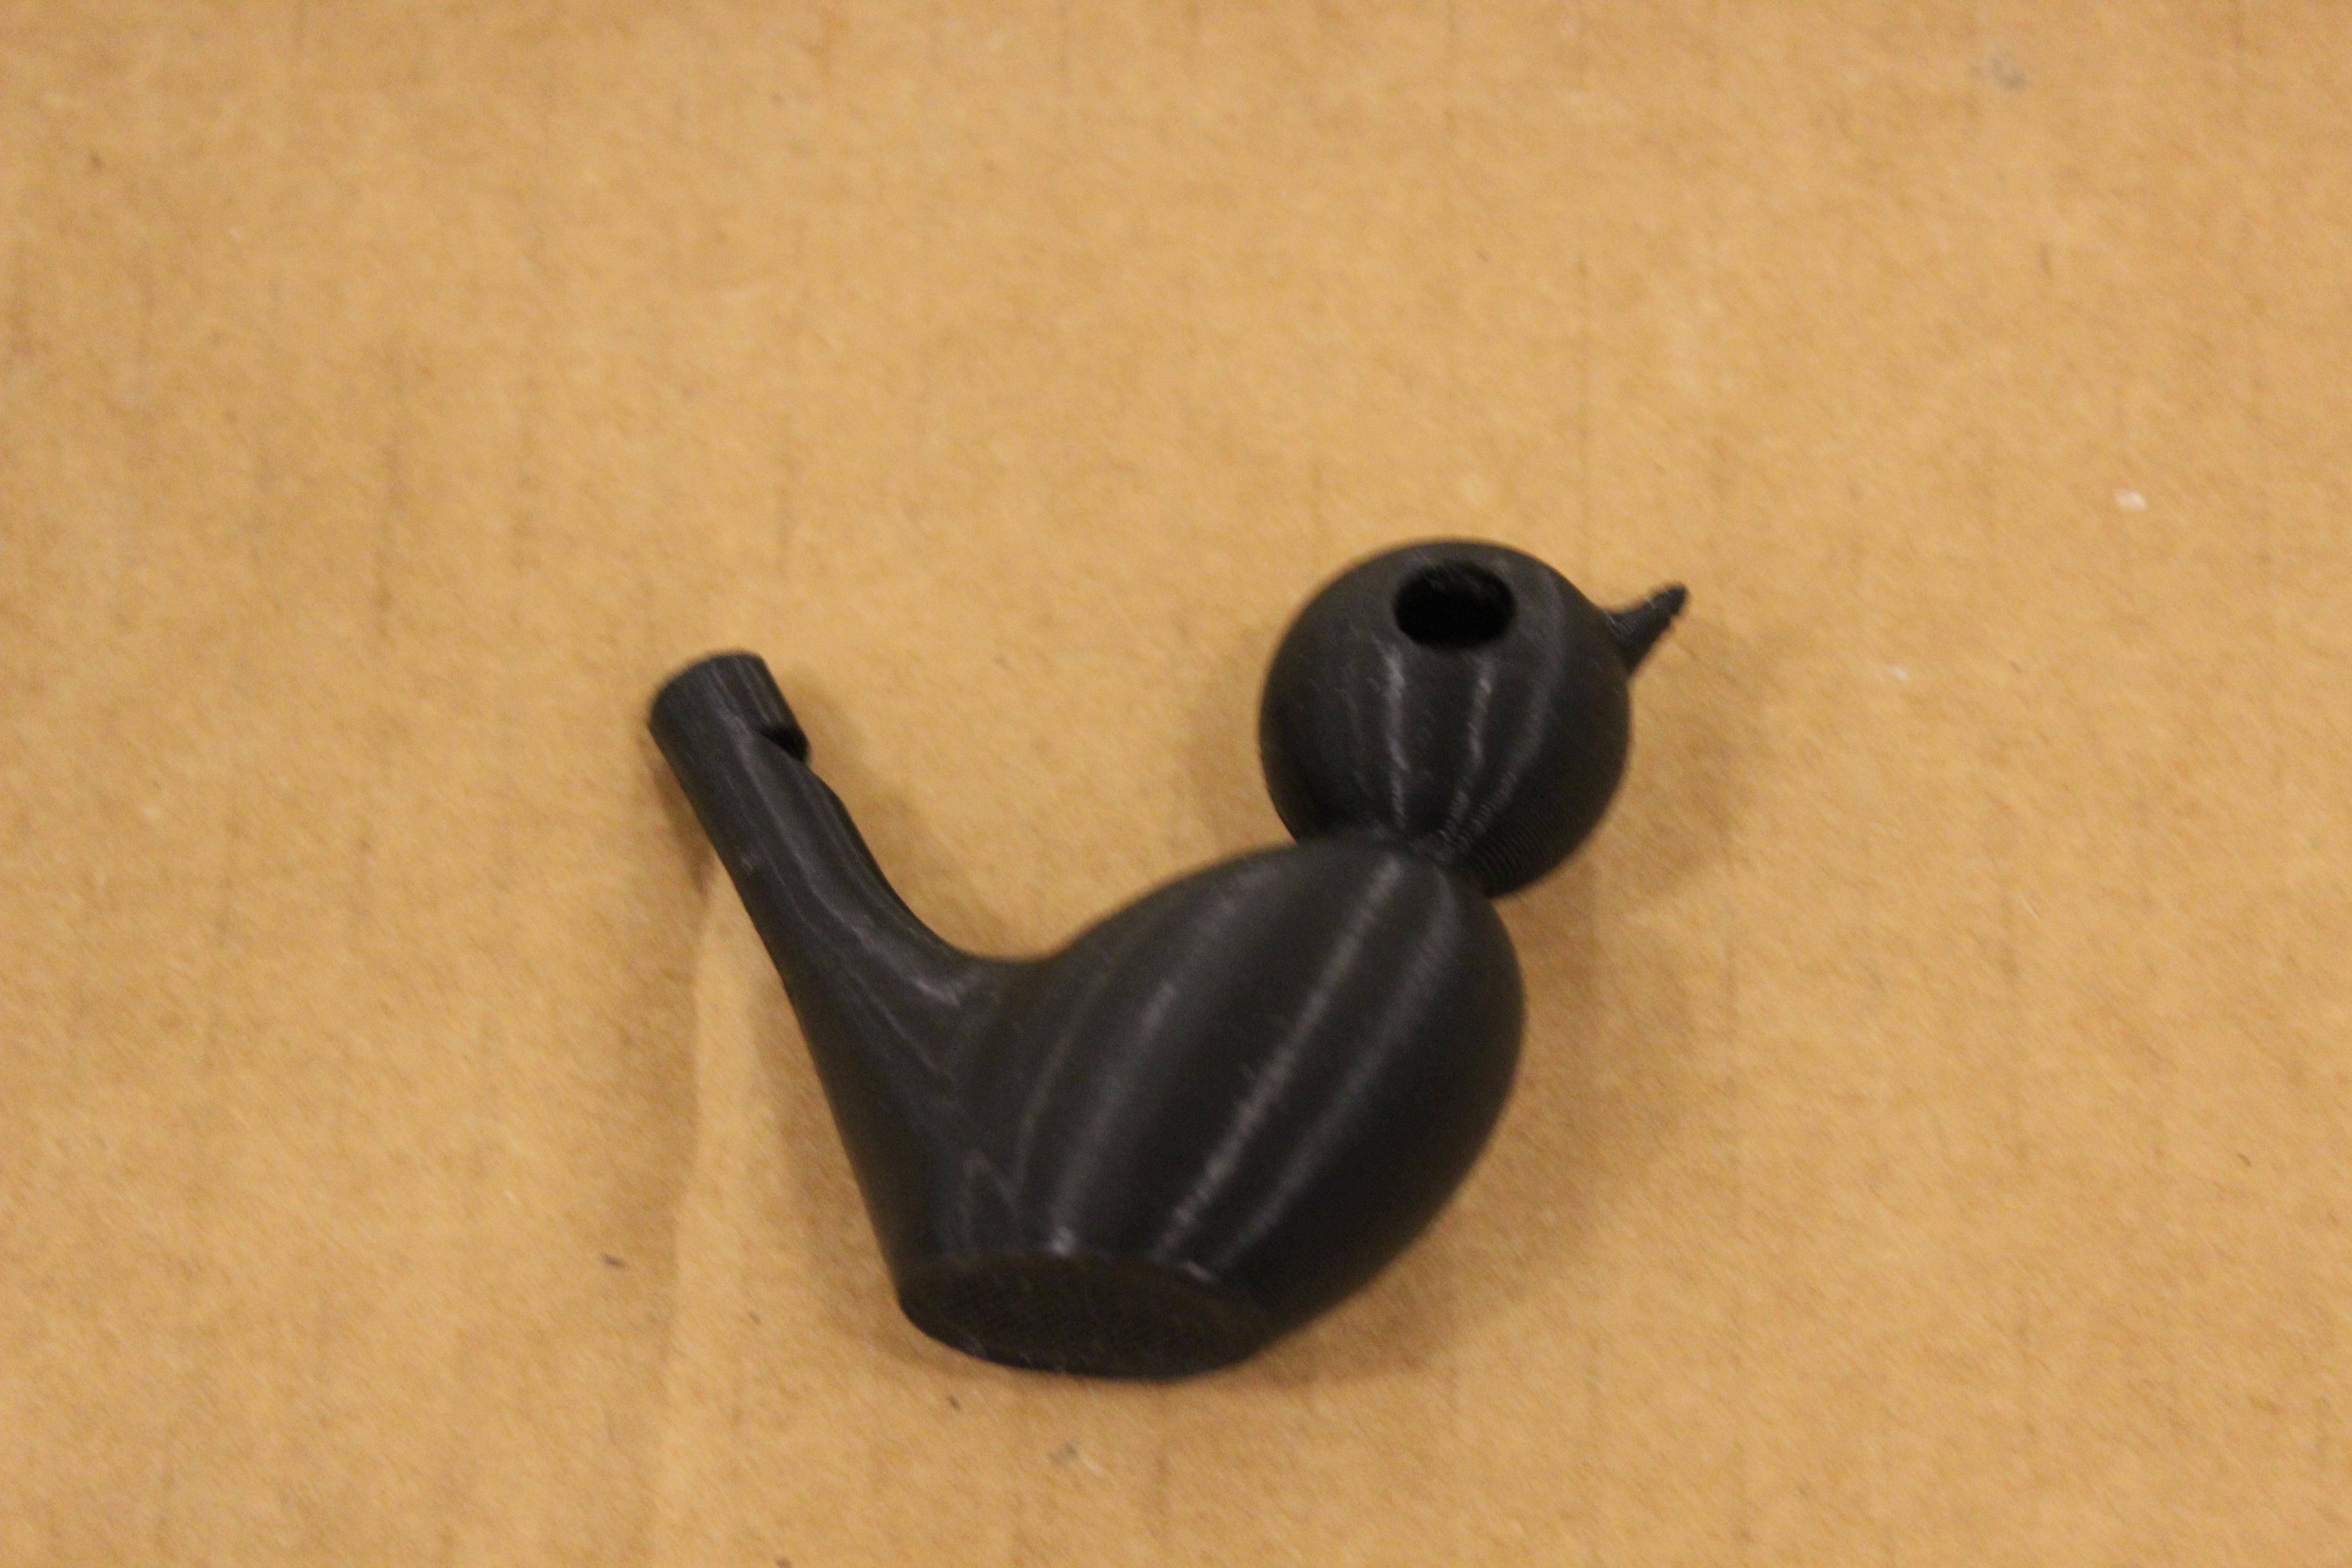birdCall: (583, 499, 1764, 1466)
